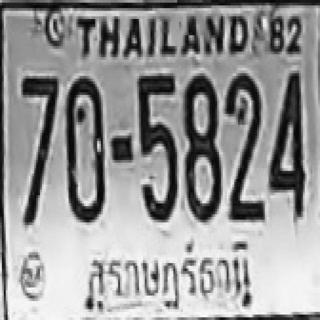N00: (65, 74, 105, 221)
N02: (226, 79, 262, 220), (226, 72, 262, 213)
N04: (268, 69, 304, 218)
N05: (136, 73, 176, 220)
N07: (21, 73, 57, 220), (21, 73, 57, 203), (21, 73, 57, 174)
N08: (183, 73, 219, 220)
P67: (80, 240, 255, 312)
